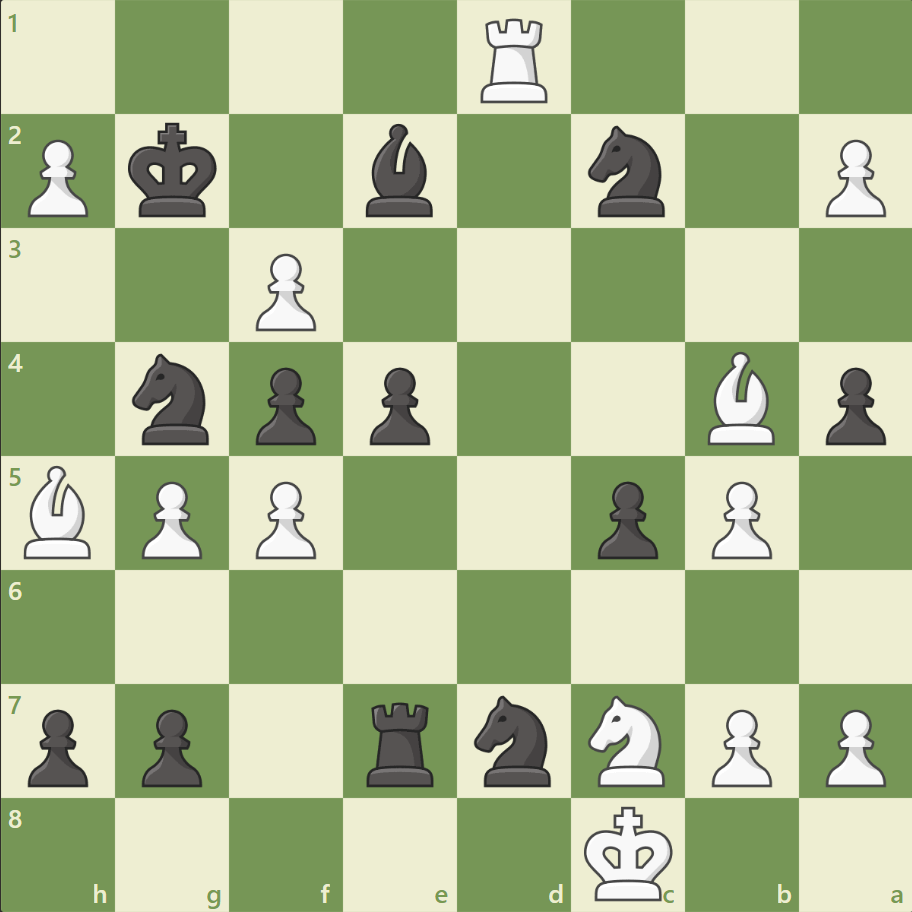B: (17, 460, 101, 563), (698, 347, 782, 449)
K: (579, 798, 679, 906)
N: (579, 688, 676, 791)
P: (701, 700, 776, 791), (701, 473, 776, 564), (247, 473, 322, 564), (133, 473, 208, 564), (247, 246, 322, 337), (20, 132, 95, 223), (815, 700, 889, 791), (815, 132, 889, 223)
R: (473, 12, 556, 109)
b: (358, 120, 442, 222)
k: (124, 117, 224, 225)
n: (124, 348, 222, 450), (465, 688, 562, 791), (579, 121, 676, 223)
p: (133, 700, 208, 791), (20, 700, 95, 791), (247, 359, 322, 450), (588, 473, 662, 564), (815, 359, 889, 450), (361, 359, 435, 450)
r: (360, 693, 442, 790)
